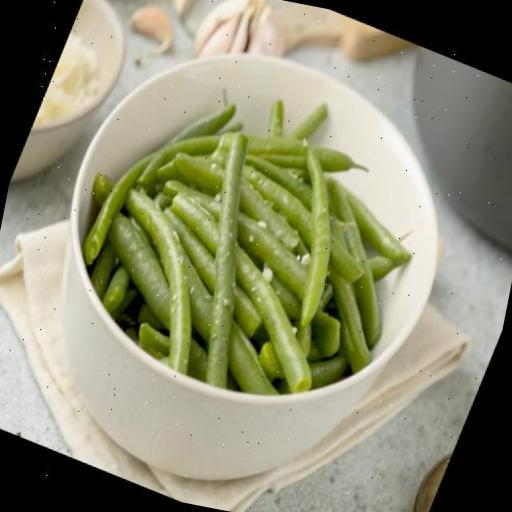buncis_rebus: (24, 0, 482, 450)
